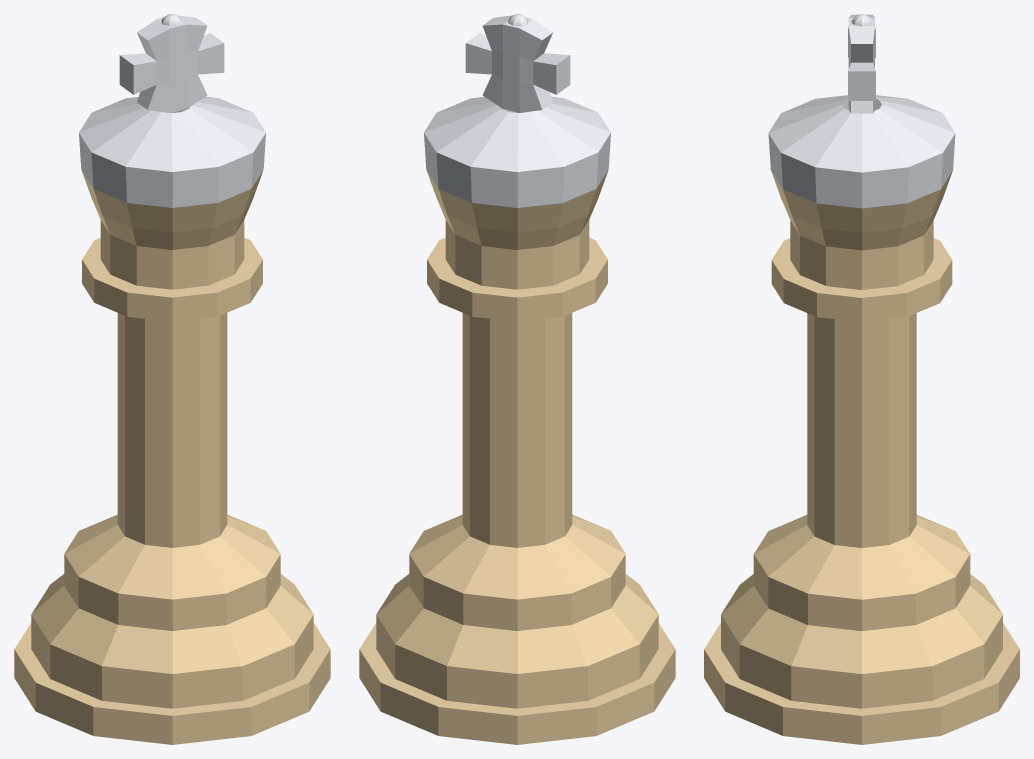
Rendered from lowpoly_k_w.glb.
The picture shows the model from 3 angles, left to right: view 1: azimuth 30°, elevation 25°; view 2: azimuth 150°, elevation 25°; view 3: azimuth 270°, elevation 25°; orthographic projection.
Visible parts, largest first — view 1: x; view 2: x; view 3: x.
Part boxes in pixels (box(x1,y1,x2,y2)): x: box(14, 14, 330, 744); x: box(359, 14, 675, 744); x: box(704, 14, 1019, 744).
Bounding box in the file's own units: 0.3886 × 0.9 × 0.3886.
